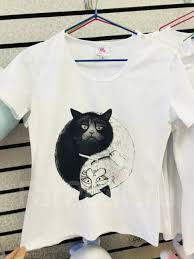cat: (66, 105, 118, 146), (73, 158, 121, 202)
